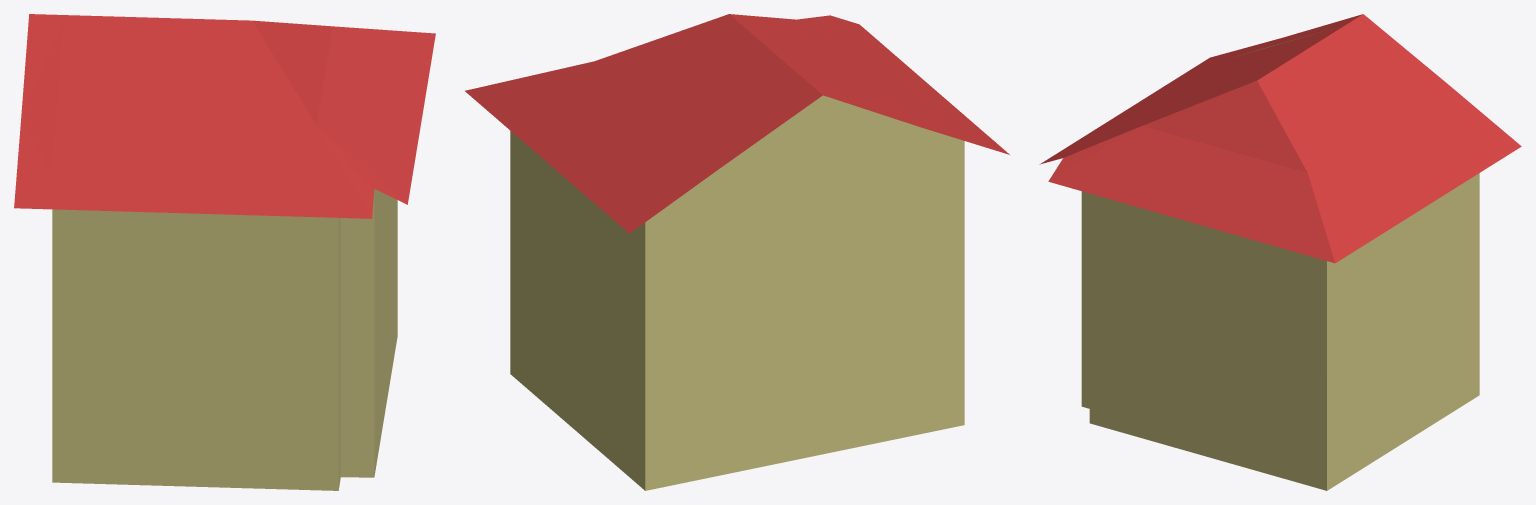
3 renders of one model, left to right at view 1: azimuth 30°, elevation 25°; view 2: azimuth 150°, elevation 25°; view 3: azimuth 270°, elevation 25°, orthographic. The views are drawn at different scales.
Parts seen in each view (by area): view 1: group_5, group_3, group_4; view 2: group_5, group_3, group_4; view 3: group_5, group_3, group_4.
Boxes of the visible parts, x1,y1,x2,y2 form: group_5: (52, 76, 397, 490); group_3: (14, 15, 407, 218); group_4: (14, 14, 435, 218); group_5: (510, 95, 964, 490); group_3: (488, 14, 963, 198); group_4: (465, 15, 1009, 233); group_5: (1081, 30, 1479, 490); group_3: (1040, 14, 1478, 262); group_4: (1041, 14, 1521, 263).
Bounding box in the file's own units: 11.97 × 11.87 × 9.03.
